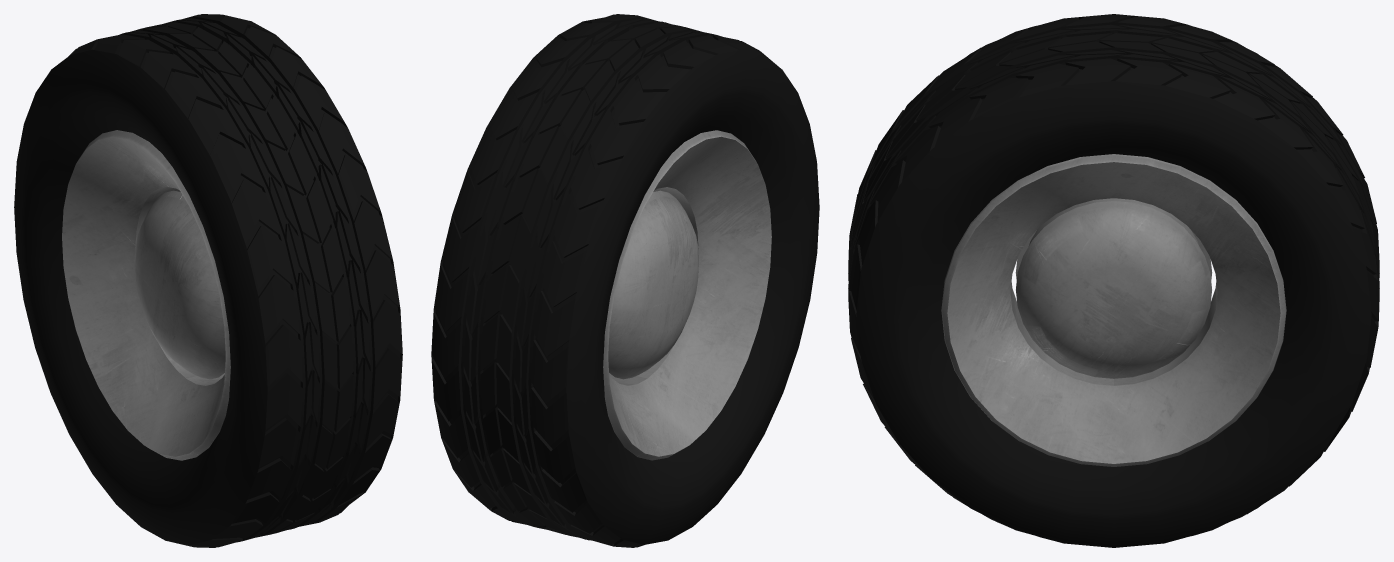
The model's file is Tires.fbx.
3 views of the same model, side by side, from view 1: azimuth 30°, elevation 25°; view 2: azimuth 150°, elevation 25°; view 3: azimuth 270°, elevation 25° (orthographic).
Visible parts, largest first — view 1: Circle.003; view 2: Circle.003; view 3: Circle.003.
Boxes of the visible parts, x1=… form: Circle.003: x1=14, y1=14, x2=402, y2=547; Circle.003: x1=431, y1=14, x2=819, y2=547; Circle.003: x1=848, y1=14, x2=1379, y2=547.
Bounding box in the file's own units: 27.9 × 81.26 × 81.26.
